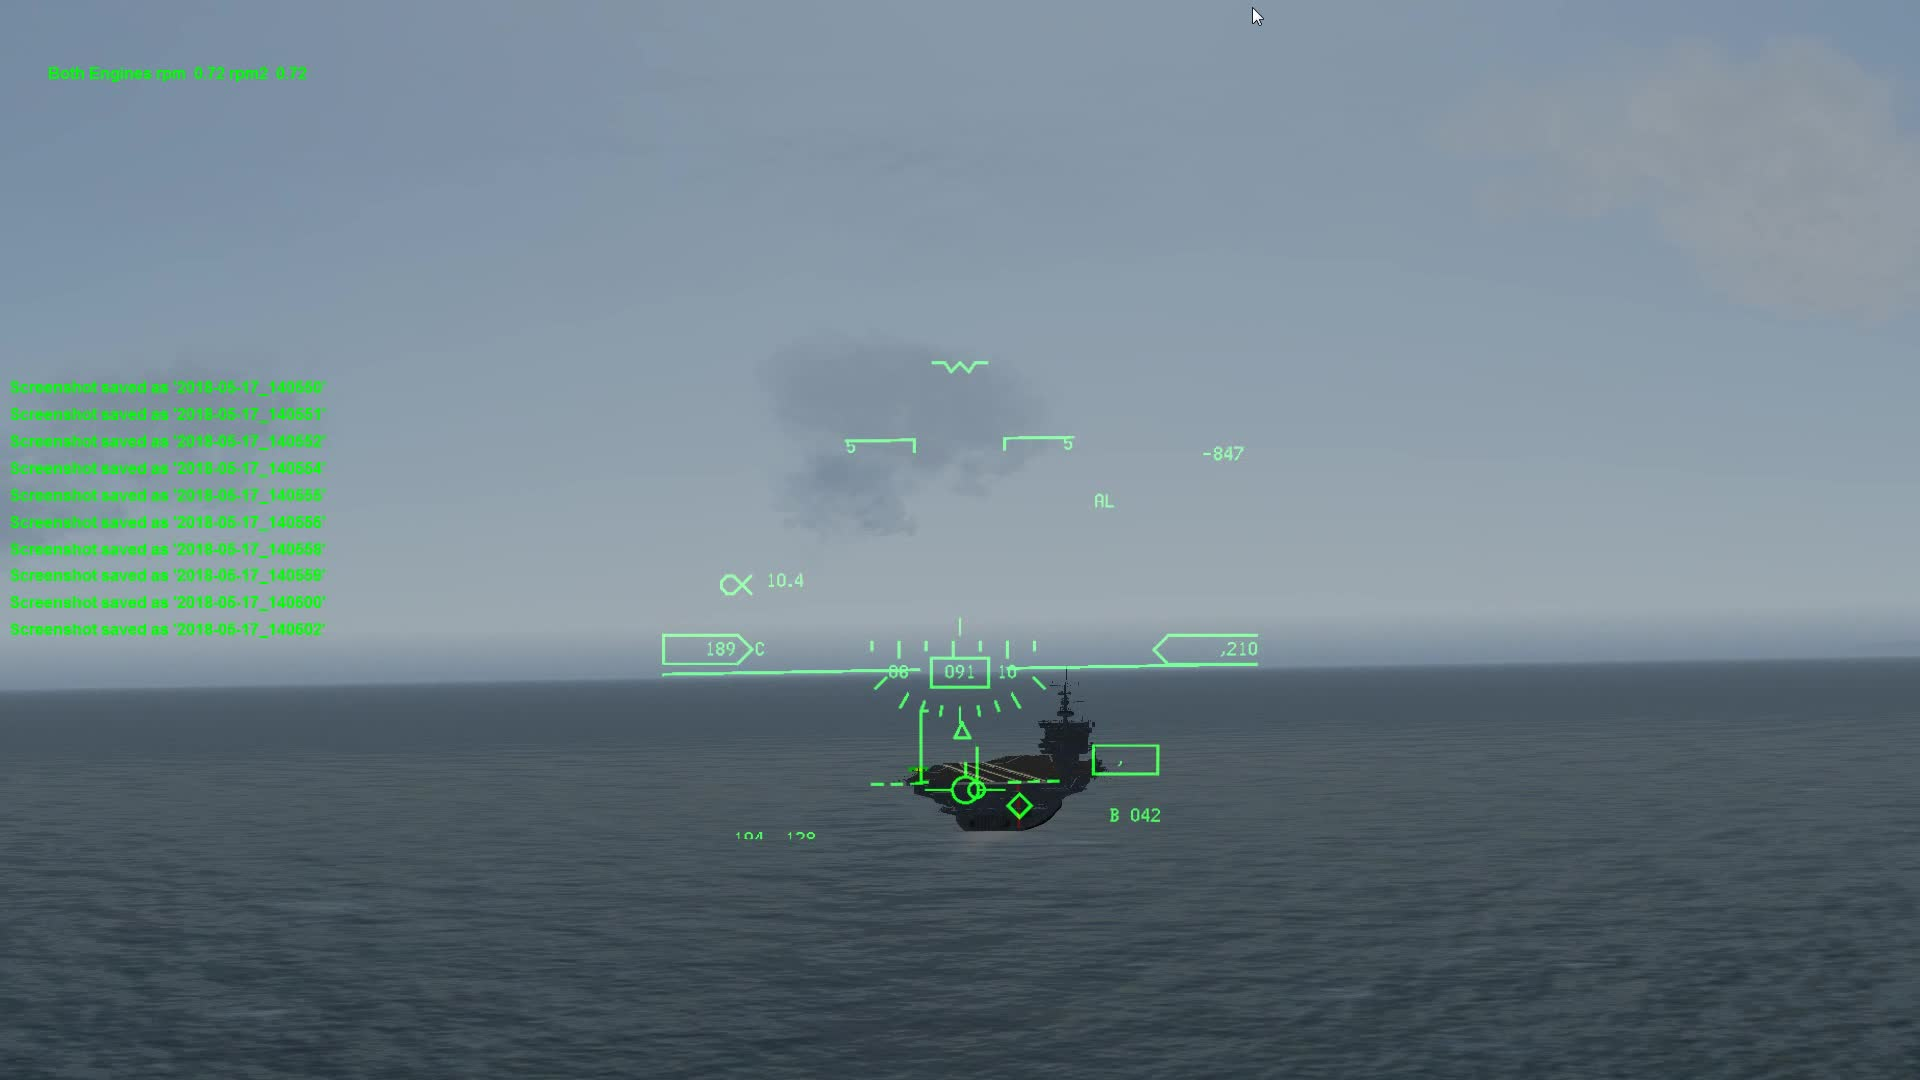speed vector: (924, 761, 1002, 808)
